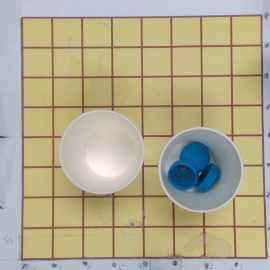cup: (59, 110, 147, 196)
cup_blue: (157, 127, 244, 216)
